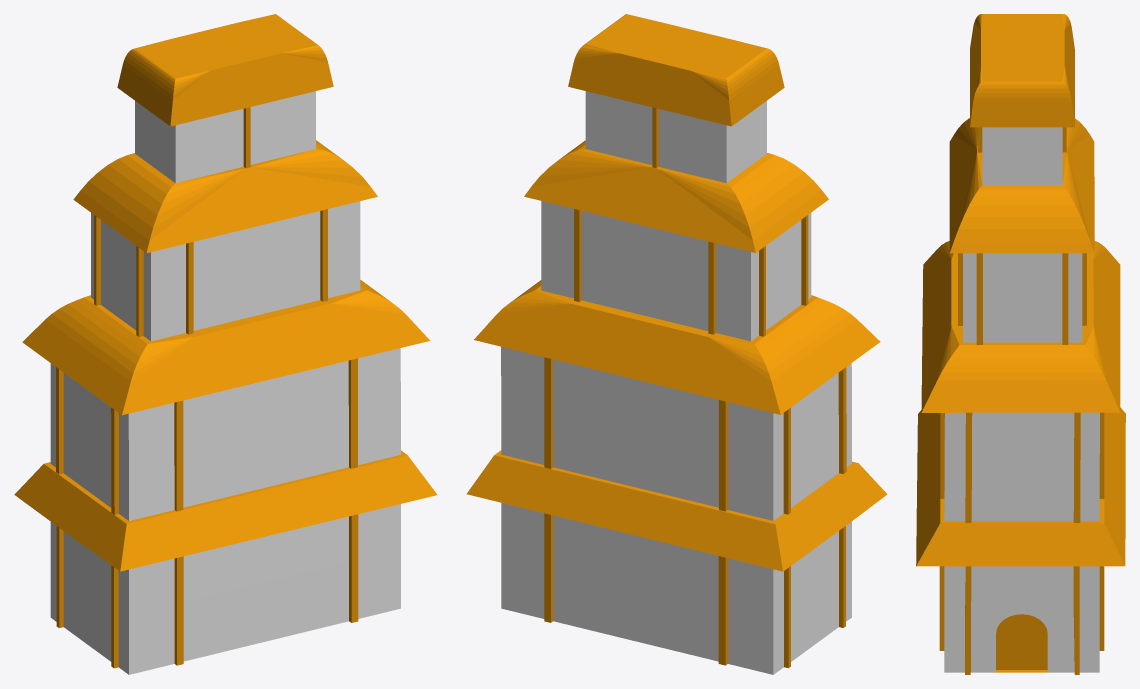
File: Four-story_Building.fbx
The picture shows the model from 3 angles, left to right: view 1: azimuth 30°, elevation 25°; view 2: azimuth 150°, elevation 25°; view 3: azimuth 270°, elevation 25°; orthographic projection.
Parts seen in each view (by area): view 1: Tower; view 2: Tower; view 3: Tower.
Part boxes in pixels (<box>): Tower: <box>14,14,437,674</box>; Tower: <box>466,14,887,674</box>; Tower: <box>916,14,1125,674</box>.
Size of the model in its own units: 1400 by 2388 by 811.
